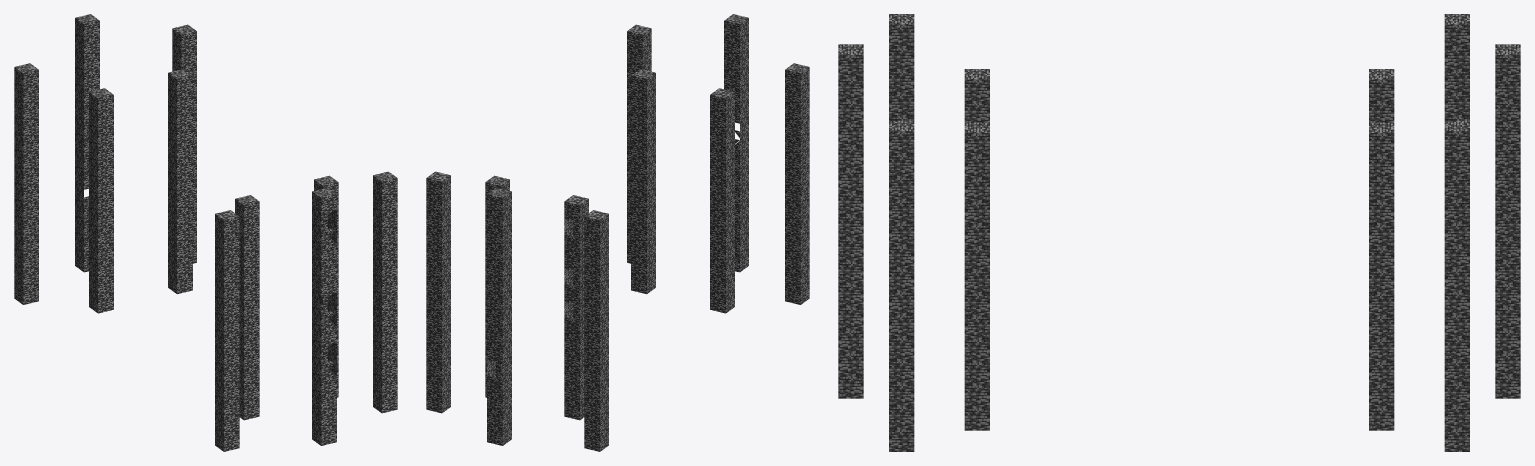
The model's file is minecraft.obj.
The picture shows the model from 3 angles, left to right: view 1: azimuth 30°, elevation 25°; view 2: azimuth 150°, elevation 25°; view 3: azimuth 270°, elevation 25°; orthographic projection. The views are drawn at different scales.
Size of the model in its own units: 11 by 15 by 27.
